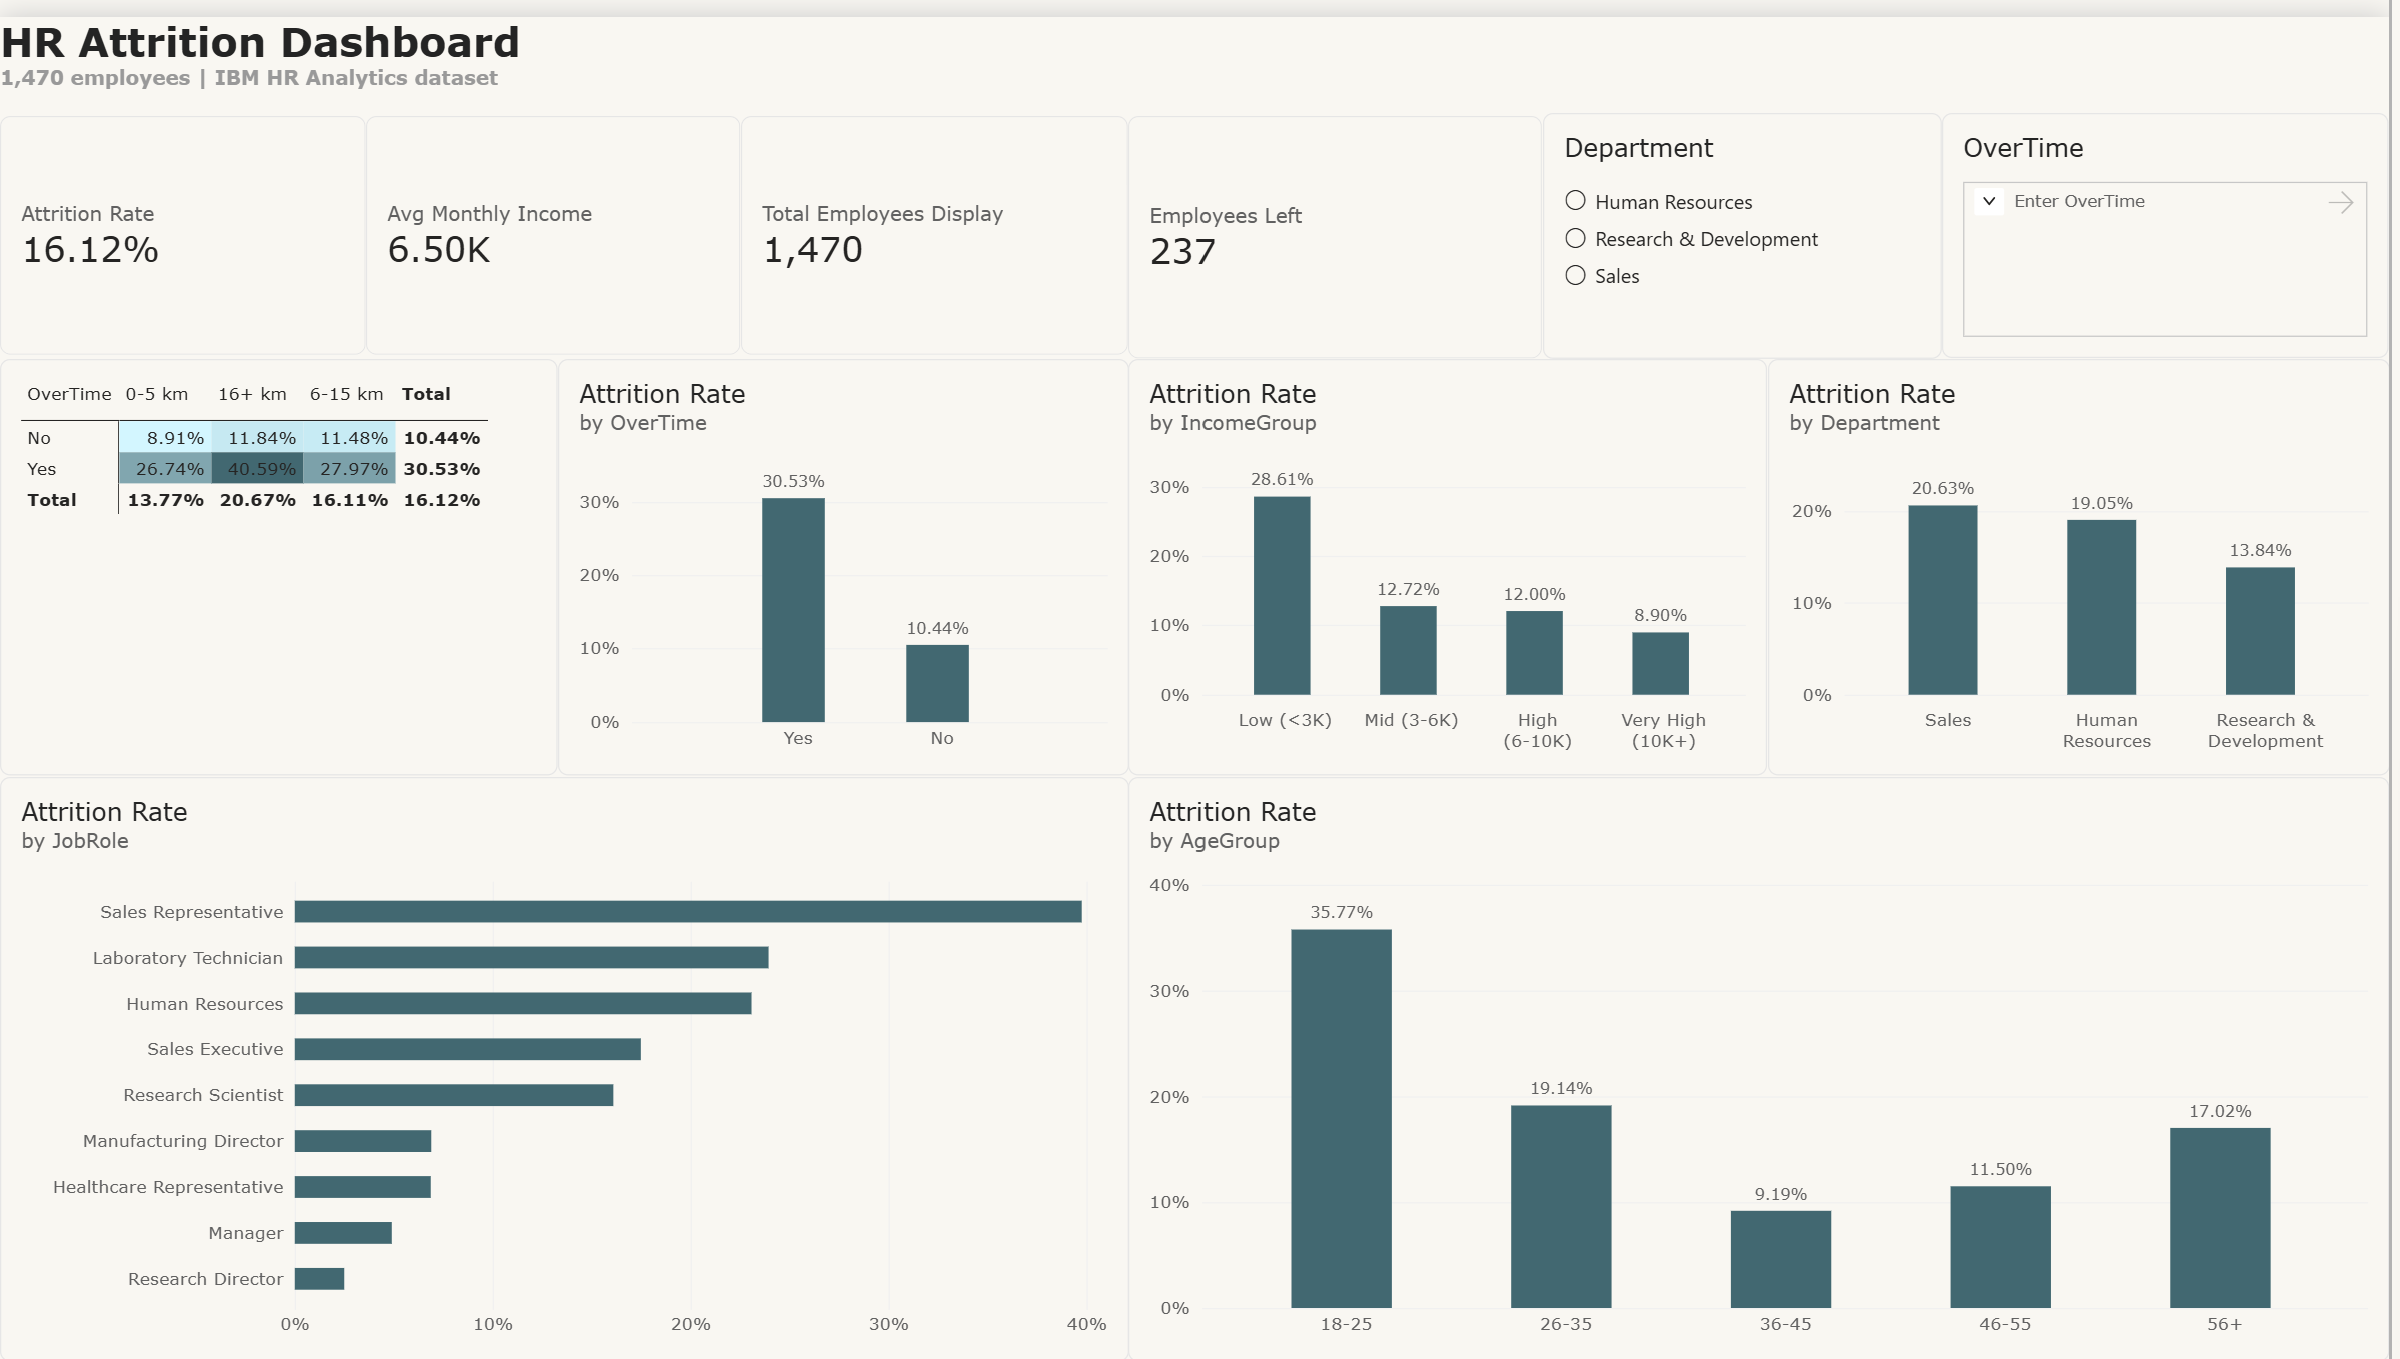

The dashboard page shown, as its layout file describes it:
{"tool":"powerbi","page":{"name":"Page 1","canvas":[1920,1080],"ordinal":0},"visuals":[{"type":"cardVisual","fields":{"Data":["vw_HR_Clean.Attrition Rate"]},"box":[0,79.6,294.3,193],"z":0},{"type":"cardVisual","fields":{"Data":["vw_HR_Clean.Total Employees Display"]},"box":[595.8,79.6,311.2,193],"z":1000},{"type":"cardVisual","fields":{"Data":["vw_HR_Clean.Employees Left"]},"box":[906.9,79.6,332.9,195.4],"z":2000},{"type":"cardVisual","fields":{"Data":["vw_HR_Clean.Avg Monthly Income"]},"box":[294.3,79.6,301.5,193],"z":3000},{"type":"clusteredColumnChart","fields":{"Category":["vw_HR_Clean.Department"],"Y":["vw_HR_Clean.Attrition Rate"]},"box":[1420.6,275.9,500.1,334.1],"z":4000},{"type":"clusteredColumnChart","fields":{"Category":["vw_HR_Clean.OverTime"],"Y":["vw_HR_Clean.Attrition Rate"]},"box":[448.4,275.9,459.2,334.1],"z":5000},{"type":"clusteredColumnChart","fields":{"Category":["vw_HR_Clean.AgeGroup"],"Y":["vw_HR_Clean.Attrition Rate"]},"box":[906.9,610.3,1013.2,469.9],"z":6000},{"type":"clusteredColumnChart","fields":{"Category":["vw_HR_Clean.IncomeGroup"],"Y":["vw_HR_Clean.Attrition Rate"]},"box":[907.5,275.9,513.1,334.1],"z":7000},{"type":"clusteredBarChart","fields":{"Category":["vw_HR_Clean.JobRole"],"Y":["vw_HR_Clean.Attrition Rate"]},"box":[0,610.1,907.5,469.9],"z":8000},{"type":"pivotTable","fields":{"Columns":["vw_HR_Clean.DistanceGroup"],"Rows":["vw_HR_Clean.OverTime"],"Values":["vw_HR_Clean.Attrition Rate"]},"box":[0,275.9,448.4,334.1],"z":9000},{"type":"textbox","box":[0,0,1920.7,77.6],"z":9001},{"type":"listSlicer","fields":{"Values":["vw_HR_Clean.Department"]},"box":[1239.8,77.2,320.8,197.8],"z":9002},{"type":"textSlicer","fields":{"Values":["vw_HR_Clean.OverTime"]},"box":[1561,78,359,197],"z":9003}]}

Visuals, with their boxes in screenshot pixels (x1, y1, x2, y2), scaled from the page's 1920x1080 canvas onto the 2400x1359 screenshot:
cardVisual - vw_HR_Clean.Attrition Rate: x1=0 y1=100 x2=368 y2=343
cardVisual - vw_HR_Clean.Total Employees Display: x1=745 y1=100 x2=1134 y2=343
cardVisual - vw_HR_Clean.Employees Left: x1=1134 y1=100 x2=1550 y2=346
cardVisual - vw_HR_Clean.Avg Monthly Income: x1=368 y1=100 x2=745 y2=343
clusteredColumnChart - vw_HR_Clean.Department x vw_HR_Clean.Attrition Rate: x1=1776 y1=347 x2=2399 y2=768
clusteredColumnChart - vw_HR_Clean.OverTime x vw_HR_Clean.Attrition Rate: x1=560 y1=347 x2=1134 y2=768
clusteredColumnChart - vw_HR_Clean.AgeGroup x vw_HR_Clean.Attrition Rate: x1=1134 y1=768 x2=2399 y2=1358
clusteredColumnChart - vw_HR_Clean.IncomeGroup x vw_HR_Clean.Attrition Rate: x1=1134 y1=347 x2=1776 y2=768
clusteredBarChart - vw_HR_Clean.JobRole x vw_HR_Clean.Attrition Rate: x1=0 y1=768 x2=1134 y2=1358
pivotTable - vw_HR_Clean.DistanceGroup x vw_HR_Clean.OverTime: x1=0 y1=347 x2=560 y2=768
textbox: x1=0 y1=0 x2=2399 y2=98
listSlicer - vw_HR_Clean.Department: x1=1550 y1=97 x2=1951 y2=346
textSlicer - vw_HR_Clean.OverTime: x1=1951 y1=98 x2=2399 y2=346
